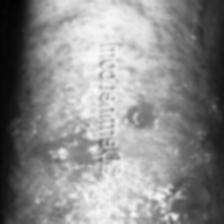Toxin: (43, 92, 92, 182), (170, 181, 210, 211), (130, 105, 154, 130), (184, 26, 198, 36)
